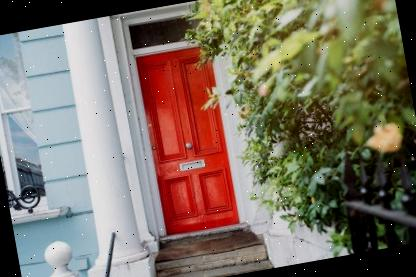door: (124, 38, 247, 240)
stair: (148, 224, 273, 277)
